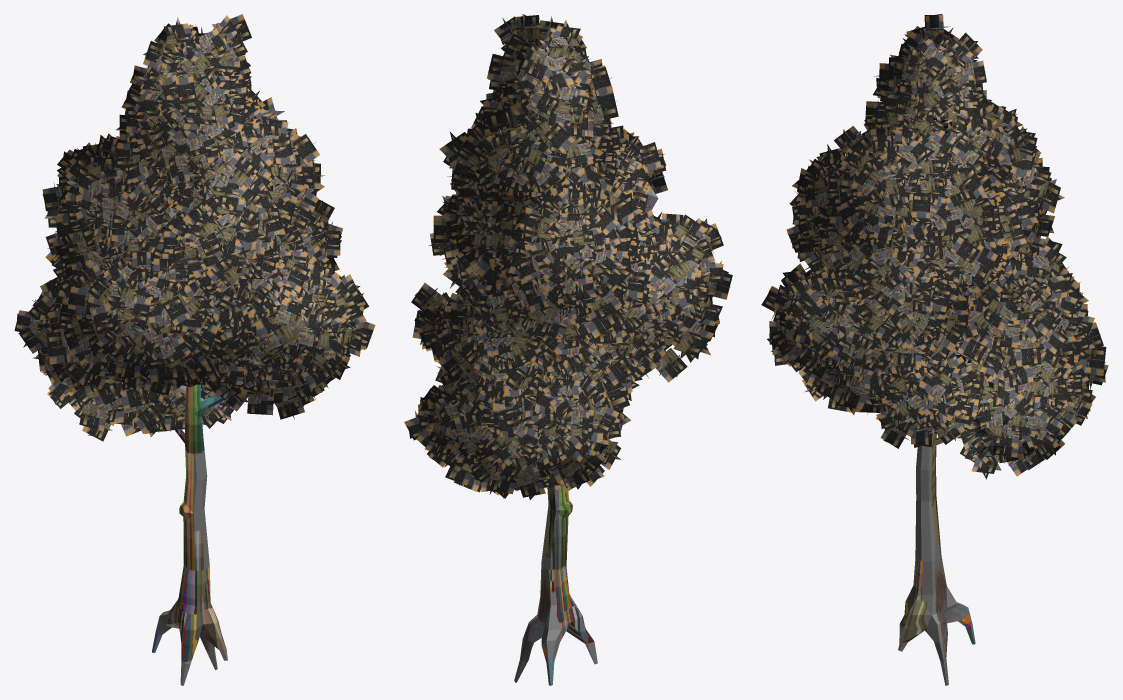
File: meadow_SM_Env_Tree_Birch_01.gltf
The picture shows the model from 3 angles, left to right: view 1: azimuth 30°, elevation 25°; view 2: azimuth 150°, elevation 25°; view 3: azimuth 270°, elevation 25°; orthographic projection.
Visible parts, largest first — view 1: SM_Env_Tree_Birch_01_LOD0, SM_Env_Tree_Birch_01_Branches_LOD0; view 2: SM_Env_Tree_Birch_01_LOD0; view 3: SM_Env_Tree_Birch_01_LOD0.
Part boxes in pixels (<box>): SM_Env_Tree_Birch_01_LOD0: <box>14,14,375,685</box>; SM_Env_Tree_Birch_01_Branches_LOD0: <box>68,185,338,394</box>; SM_Env_Tree_Birch_01_LOD0: <box>404,14,732,685</box>; SM_Env_Tree_Birch_01_LOD0: <box>761,14,1108,685</box>.
Size of what is drawn, in the model's own units: 4.72 by 10.24 by 4.95.
1 material, 1 textured.
